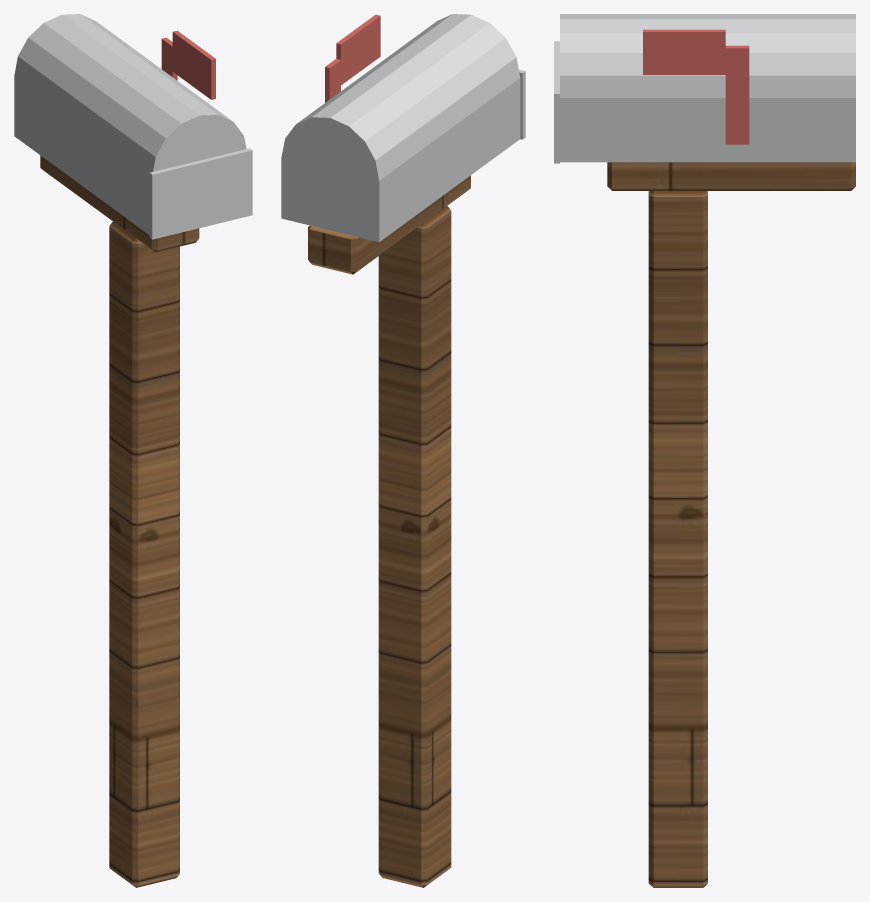
The model's file is mailbox.glb.
3 renders of one model, left to right at view 1: azimuth 30°, elevation 25°; view 2: azimuth 150°, elevation 25°; view 3: azimuth 270°, elevation 25°, orthographic. The views are drawn at different scales.
Parts seen in each view (by area): view 1: mailbox_wood, mailbox_galv, mailbox_redp; view 2: mailbox_wood, mailbox_galv, mailbox_redp; view 3: mailbox_wood, mailbox_galv, mailbox_redp.
Part boxes in pixels (<box>): mailbox_wood: <box>40,155,199,887</box>; mailbox_galv: <box>14,14,252,239</box>; mailbox_redp: <box>161,30,215,99</box>; mailbox_wood: <box>308,175,470,887</box>; mailbox_galv: <box>281,14,525,242</box>; mailbox_redp: <box>325,14,380,102</box>; mailbox_wood: <box>607,162,855,887</box>; mailbox_galv: <box>554,14,855,163</box>; mailbox_redp: <box>643,29,749,144</box>.
Size of the model in its own units: 0.22 by 1.63 by 0.51.
3 materials, 1 textured.
